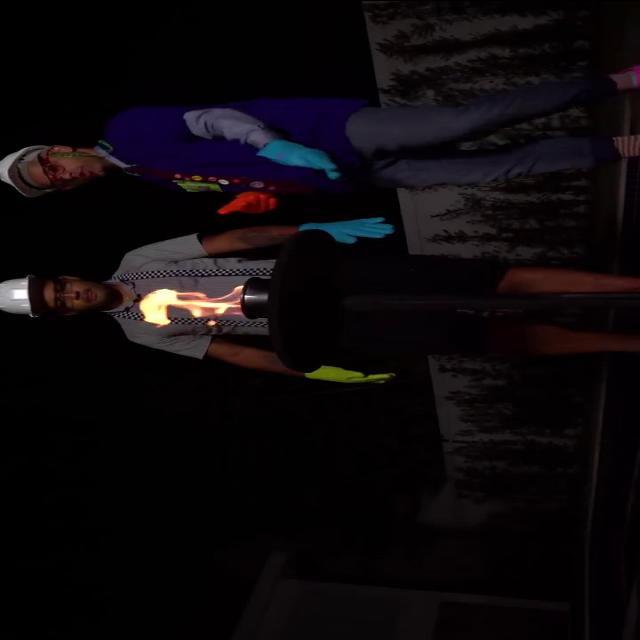Fire: (132, 270, 240, 338)
